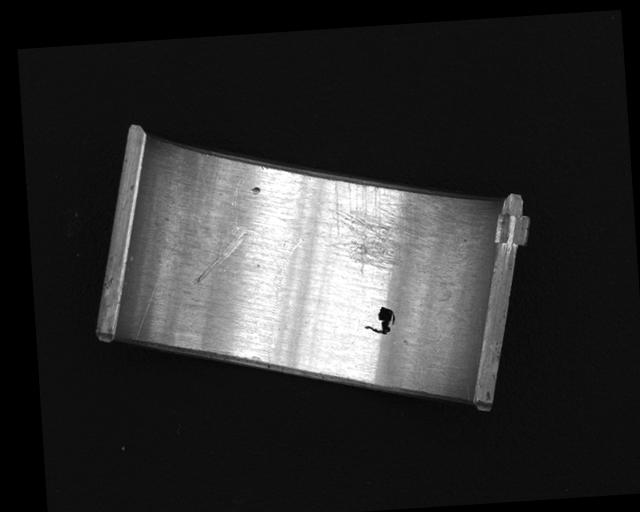blot: (362, 305, 396, 336)
bruise: (248, 184, 260, 196)
nick: (257, 238, 311, 366), (128, 245, 183, 342), (192, 230, 251, 283), (229, 176, 246, 235)
scratch: (321, 172, 456, 276)
